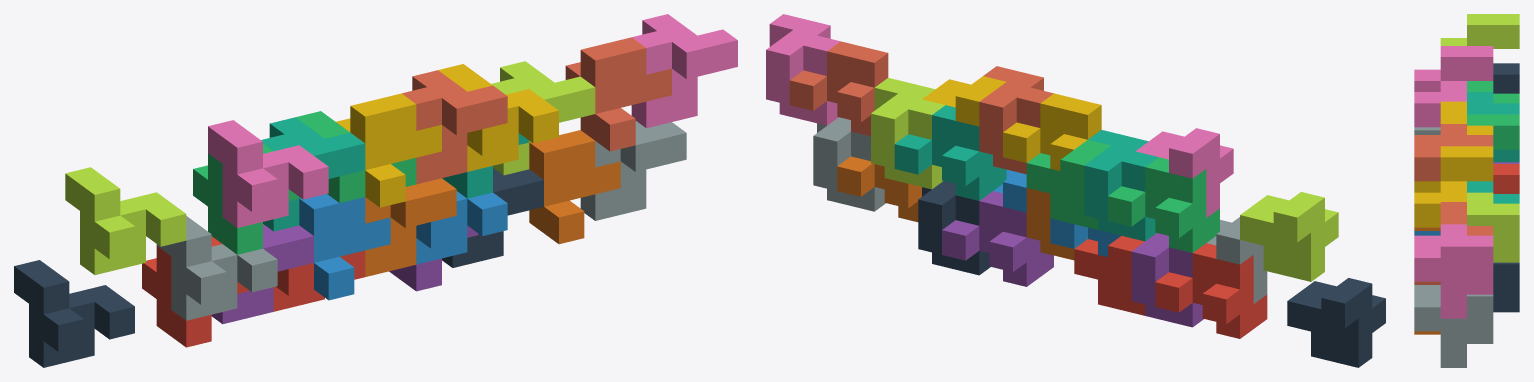
The model's file is tiling.obj.
3 renders of one model, left to right at view 1: azimuth 30°, elevation 25°; view 2: azimuth 150°, elevation 25°; view 3: azimuth 270°, elevation 25°, orthographic. The views are drawn at different scales.
Parts seen in each view (by area): view 1: copy_2_domain_4, copy_2_domain_3, copy_2_domain_1, copy_2_domain_2, copy_1_domain_8, copy_3_domain_8, copy_1_domain_6, copy_3_domain_4, copy_1_domain_4, copy_1_domain_2, copy_3_domain_6, copy_2_domain_8 (+12 smaller); view 2: copy_2_domain_1, copy_2_domain_3, copy_1_domain_1, copy_1_domain_3, copy_1_domain_7, copy_1_domain_5, copy_1_domain_8, copy_3_domain_8, copy_3_domain_7, copy_3_domain_3, copy_1_domain_4, copy_3_domain_4 (+12 smaller); view 3: copy_3_domain_8, copy_2_domain_4, copy_3_domain_6, copy_2_domain_8, copy_3_domain_7, copy_3_domain_4, copy_2_domain_3, copy_3_domain_5, copy_3_domain_3, copy_2_domain_7, copy_1_domain_8, copy_1_domain_4 (+8 smaller).
Boxes of the visible parts, <box> form: copy_2_domain_4: <box>208,120,328,227</box>; copy_2_domain_3: <box>65,167,186,274</box>; copy_2_domain_1: <box>14,260,134,367</box>; copy_2_domain_2: <box>156,216,277,320</box>; copy_1_domain_8: <box>565,37,671,151</box>; copy_3_domain_8: <box>631,14,737,128</box>; copy_1_domain_6: <box>529,130,620,244</box>; copy_3_domain_4: <box>402,70,507,184</box>; copy_1_domain_4: <box>336,93,441,207</box>; copy_1_domain_2: <box>299,194,390,300</box>; copy_3_domain_6: <box>580,121,686,220</box>; copy_2_domain_8: <box>438,64,558,171</box>; copy_2_domain_1: <box>1287,278,1385,367</box>; copy_2_domain_3: <box>1240,192,1338,281</box>; copy_1_domain_1: <box>1155,243,1267,338</box>; copy_1_domain_3: <box>1108,157,1219,252</box>; copy_1_domain_7: <box>894,105,1006,200</box>; copy_1_domain_5: <box>942,191,1053,286</box>; copy_1_domain_8: <box>789,41,888,136</box>; copy_3_domain_8: <box>766,14,840,125</box>; copy_3_domain_7: <box>871,77,945,189</box>; copy_3_domain_3: <box>1084,130,1158,241</box>; copy_1_domain_4: <box>1003,93,1101,170</box>; copy_3_domain_4: <box>979,66,1053,174</box>; copy_3_domain_8: <box>1414,224,1493,318</box>; copy_2_domain_4: <box>1414,46,1493,127</box>; copy_3_domain_6: <box>1414,285,1493,367</box>; copy_2_domain_8: <box>1414,146,1493,227</box>; copy_3_domain_7: <box>1467,192,1519,262</box>; copy_3_domain_4: <box>1414,124,1493,181</box>; copy_2_domain_3: <box>1440,14,1519,48</box>; copy_3_domain_5: <box>1493,262,1519,312</box>; copy_3_domain_3: <box>1467,92,1519,162</box>; copy_2_domain_7: <box>1467,114,1519,149</box>; copy_1_domain_8: <box>1414,202,1493,284</box>; copy_1_domain_4: <box>1440,101,1493,134</box>.
Size of the model in its own units: 26 by 7 by 4.
